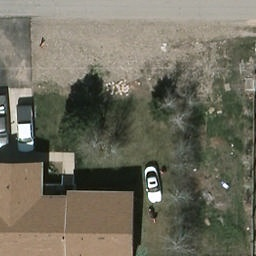car: (144, 166, 164, 203)
pickup: (13, 105, 33, 155), (0, 93, 14, 152)
